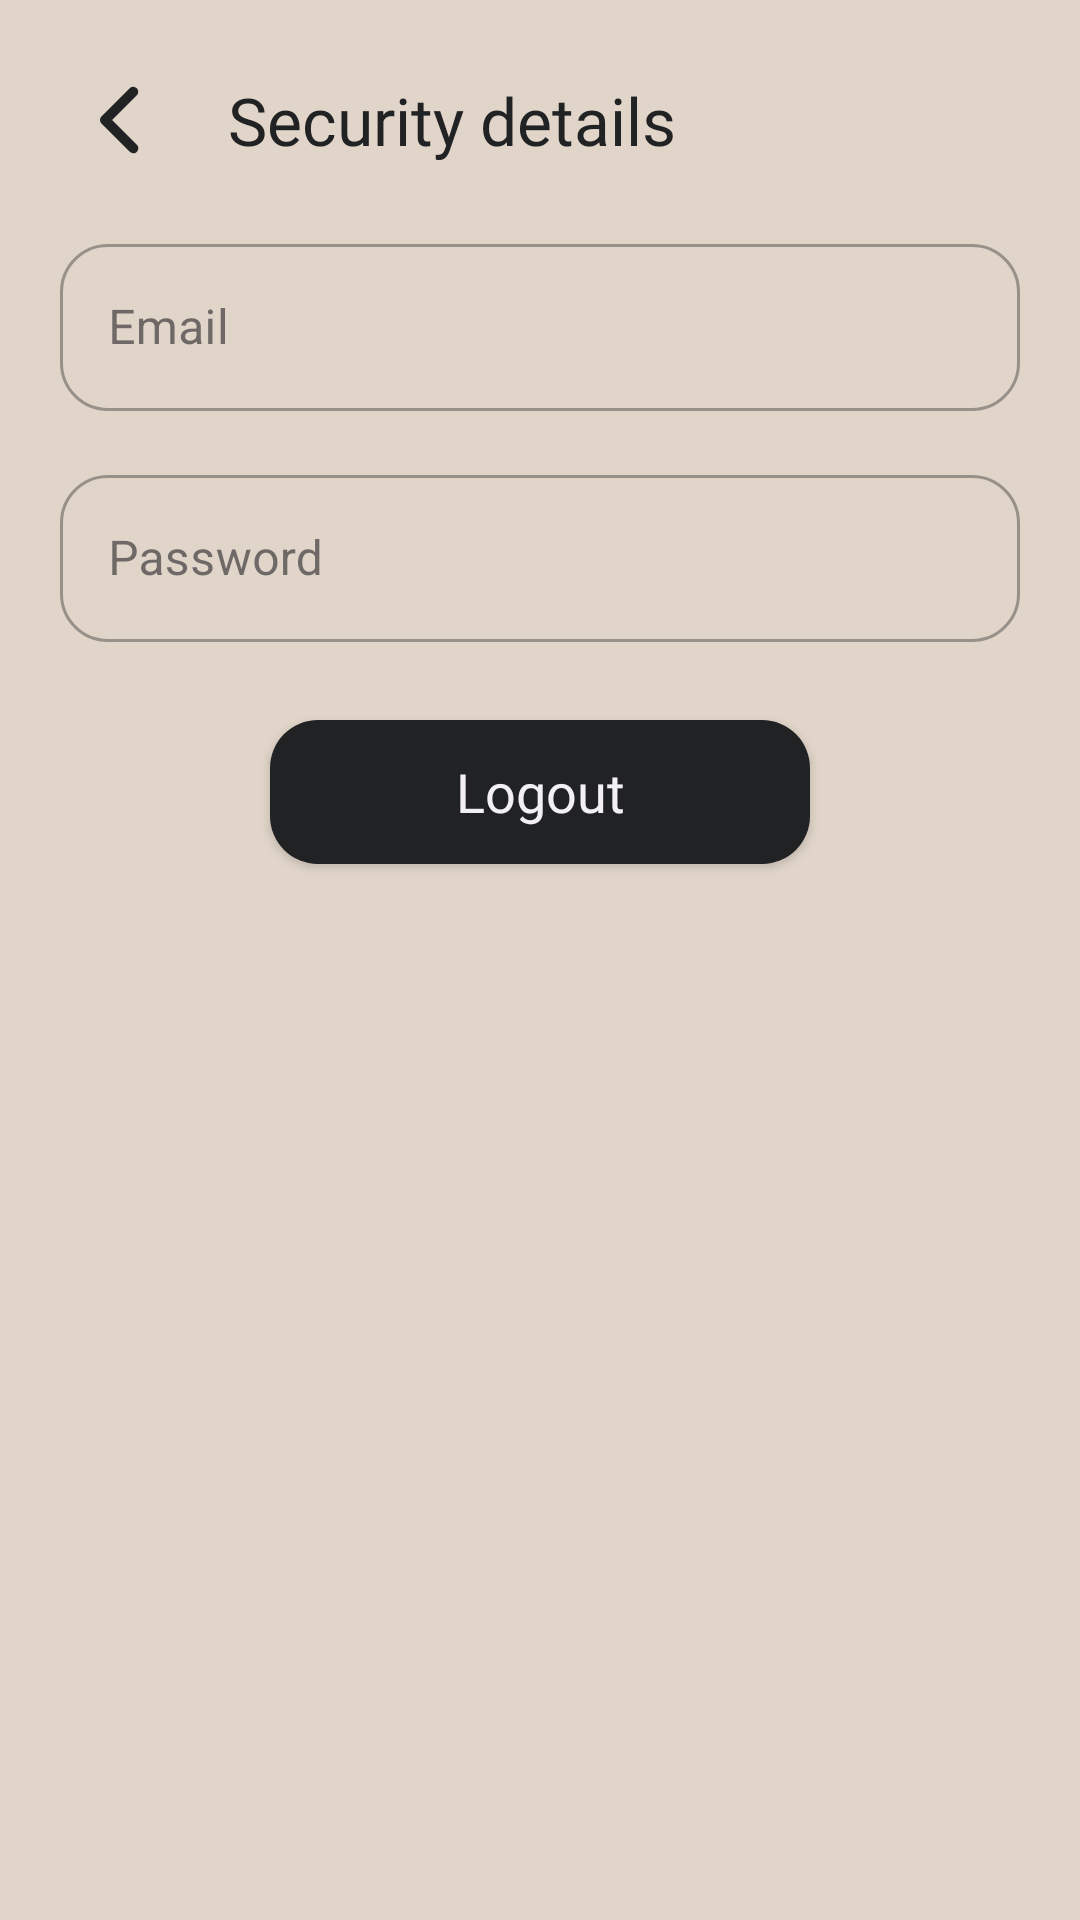

Icon click points for this 1080*1920 phone screenshot, format point (x, y):
arrow left: point (119, 120)
